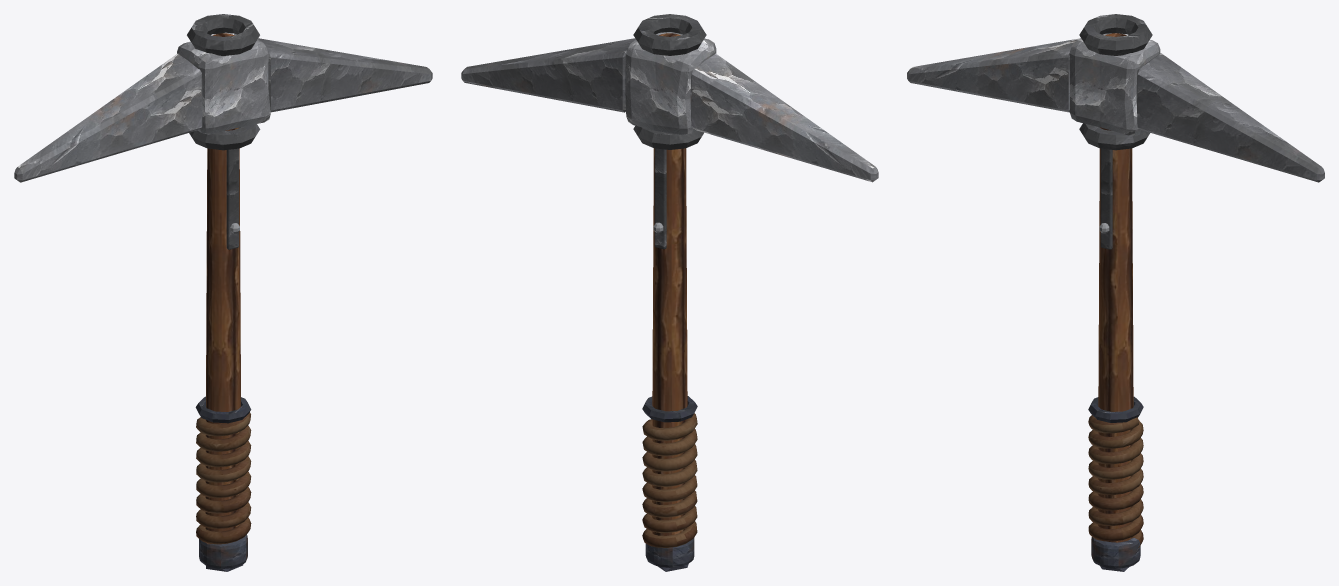
Rendered from pickaxe_silver.glb.
The picture shows the model from 3 angles, left to right: view 1: azimuth 30°, elevation 25°; view 2: azimuth 150°, elevation 25°; view 3: azimuth 330°, elevation 25°; orthographic projection.
Parts seen in each view (by area): view 1: model; view 2: model; view 3: model.
Part boxes in pixels (x1,y1,x2,y2): model: (14, 14, 432, 571); model: (461, 14, 878, 571); model: (907, 14, 1324, 571).
Bounding box in the file's own units: 0.6 × 0.746 × 0.092.
9 materials, 8 textured.
